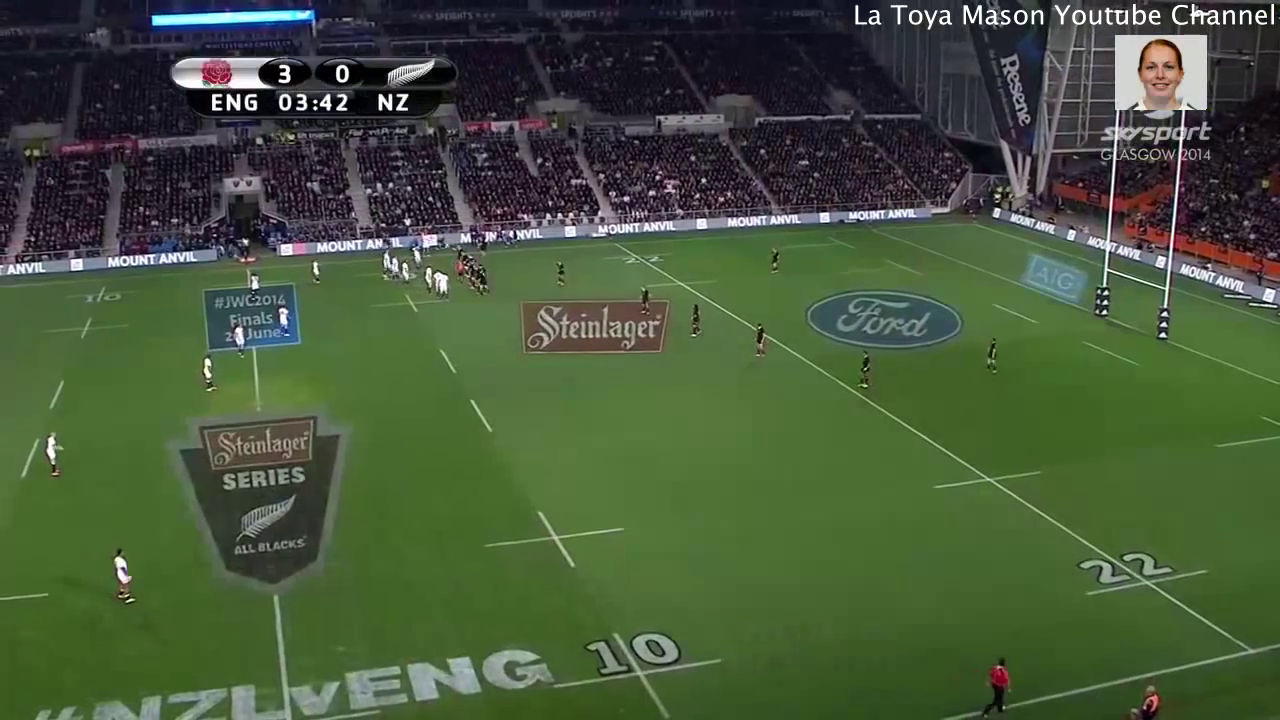10_metre: (553, 629, 731, 720), (480, 508, 631, 572), (44, 315, 132, 342), (369, 288, 451, 315), (62, 282, 146, 308)
player: (110, 548, 139, 607), (43, 424, 65, 482), (852, 344, 878, 392), (682, 299, 709, 339), (747, 320, 769, 363), (980, 337, 1002, 376), (549, 255, 571, 292), (271, 305, 294, 340), (201, 348, 218, 394), (762, 243, 783, 276), (233, 321, 249, 363), (637, 284, 654, 320), (309, 256, 325, 286), (435, 272, 451, 301), (249, 272, 265, 299), (478, 266, 489, 296), (423, 264, 433, 295), (432, 269, 442, 298), (388, 255, 399, 281), (381, 249, 391, 277), (453, 259, 464, 284), (400, 259, 410, 285), (412, 247, 422, 271), (472, 263, 479, 291), (464, 256, 471, 281), (457, 247, 464, 259)
post: (1094, 162, 1177, 351)
